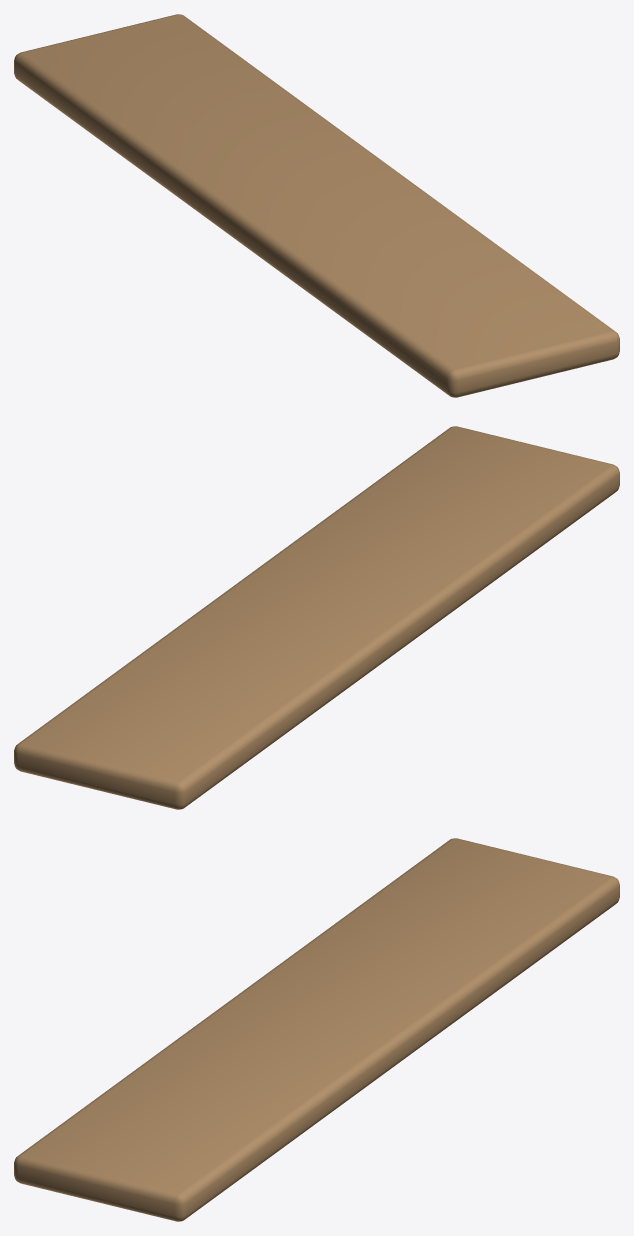
File: wood_plank.fbx
3 views of the same model, one above another, from view 1: azimuth 30°, elevation 25°; view 2: azimuth 150°, elevation 25°; view 3: azimuth 330°, elevation 25° (orthographic).
Visible parts, largest first — view 1: wood_plank; view 2: wood_plank; view 3: wood_plank.
Part boxes in pixels (box(x1,y1,x2,y2)): wood_plank: box(14, 14, 619, 397); wood_plank: box(14, 426, 619, 809); wood_plank: box(14, 838, 619, 1221).
Bounding box in the file's own units: 0.45 × 0.07 × 2.
